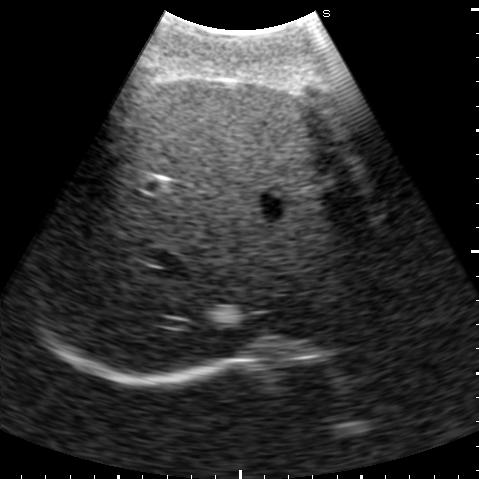S5: (119, 83, 338, 194)
S7: (29, 161, 160, 323)
S8: (86, 179, 377, 370)
Tumor: (209, 305, 240, 327)
